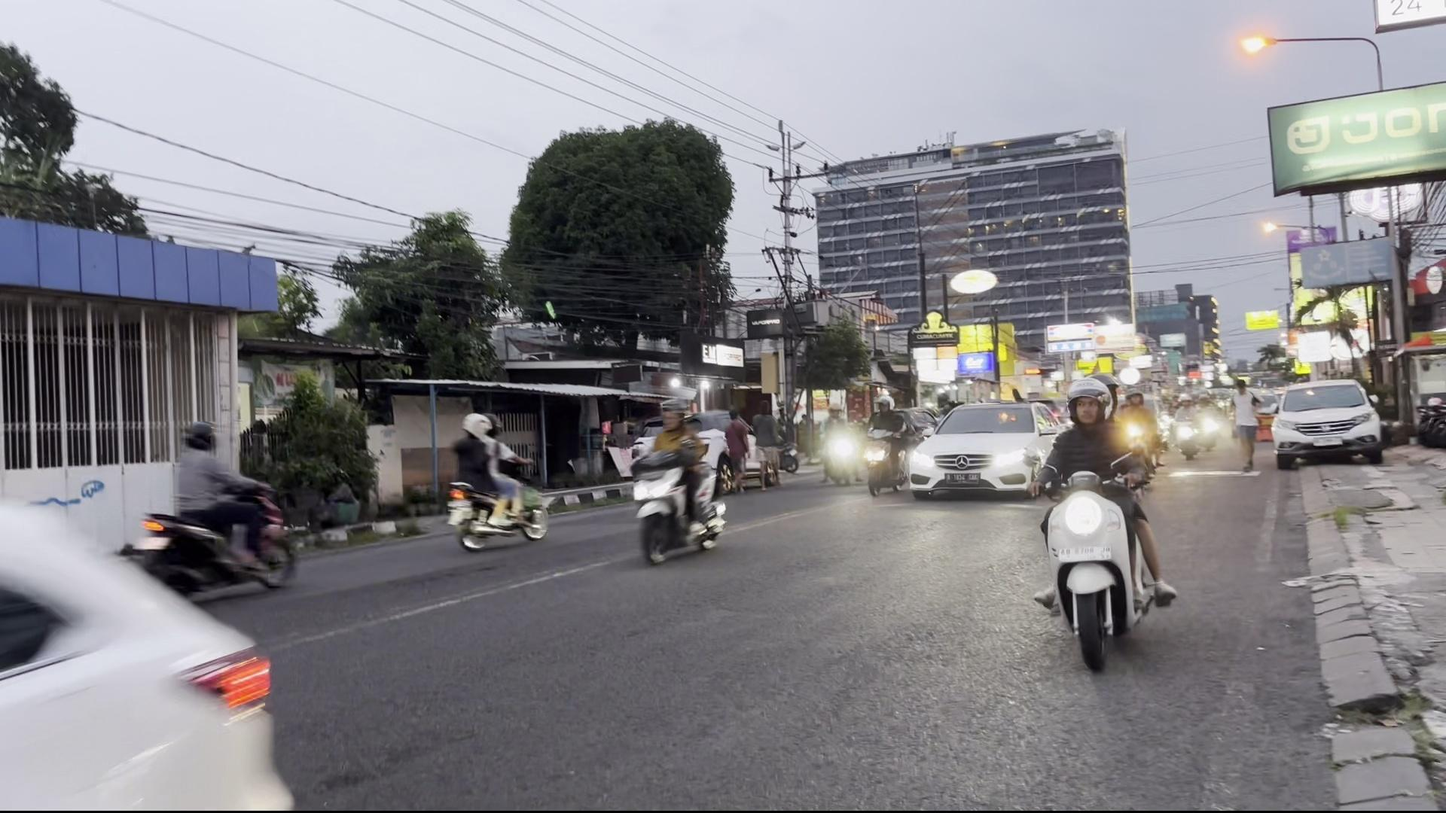helm: (1060, 371, 1123, 427)
riding: (1020, 368, 1186, 680)
